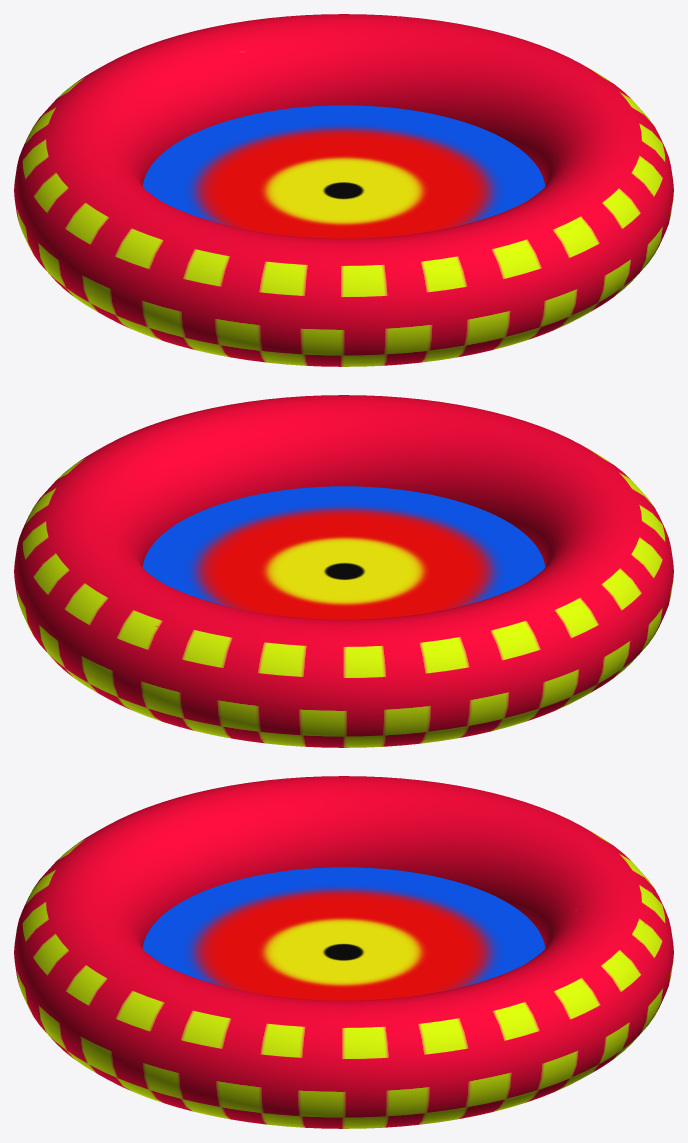
Rendered from TorusAim4.fbx.
The picture shows the model from 3 angles, top to bottom: view 1: azimuth 30°, elevation 25°; view 2: azimuth 150°, elevation 25°; view 3: azimuth 270°, elevation 25°; orthographic projection.
Parts seen in each view (by area): view 1: Torus; view 2: Torus; view 3: Torus.
Part boxes in pixels (x1,y1,x2,y2): Torus: [14, 14, 673, 366]; Torus: [14, 395, 673, 747]; Torus: [14, 776, 673, 1128].
Size of the model in its own units: 2.48 by 0.4833 by 2.48.
Materials: 2 (2 with a texture image).
